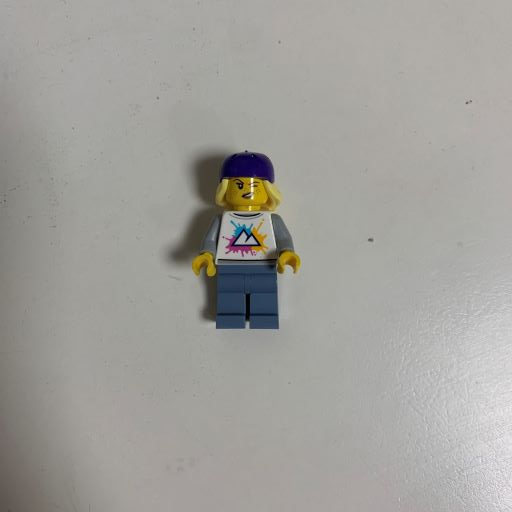human: (178, 143, 311, 340)
